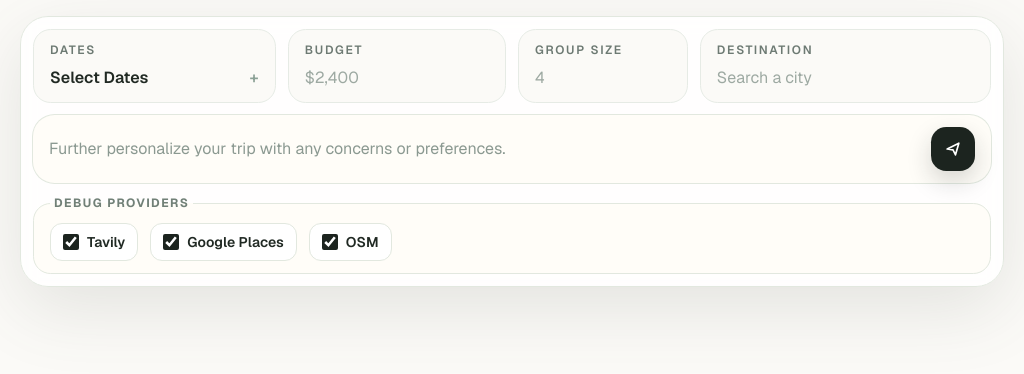
Test: trip planner page integration › blocks discovery when group size is invalid
Type "Lisbon" into the search field labelled "Destination" at (845, 78), box [717, 66, 974, 90]
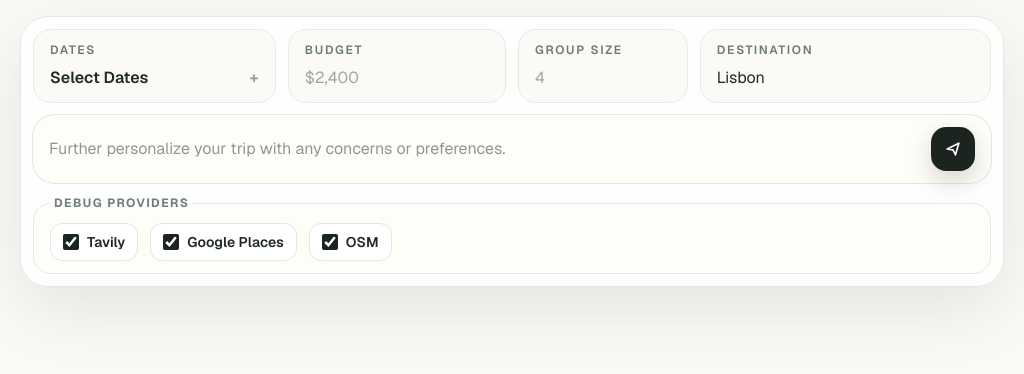
Click the button named "Submit trip preferences" at (953, 149), box [931, 127, 975, 171]
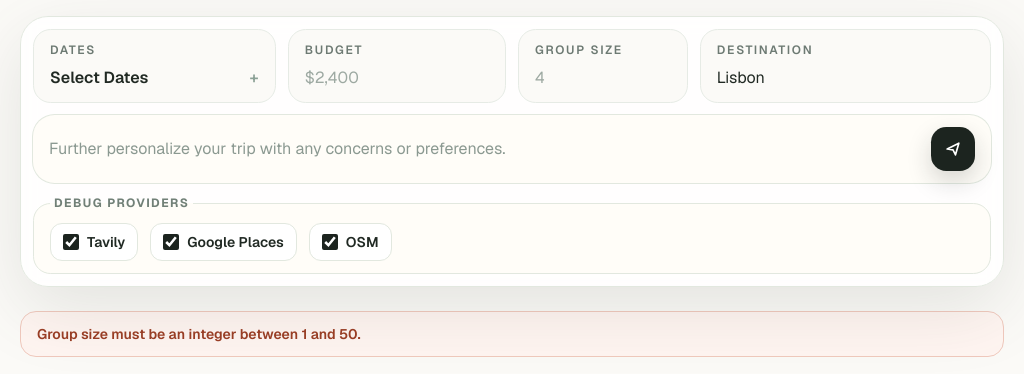
Now the text "Group size must be an integer between 1 and 50." is shown, box [20, 311, 1004, 357]
